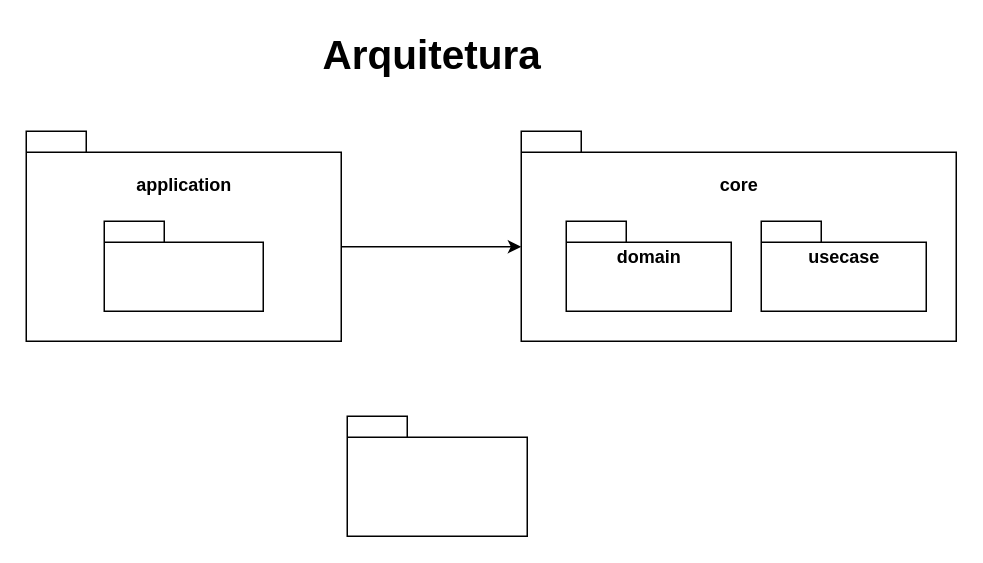
This 983x563 diagram has some shape labels left out. The shapes that lost their labels are listed below. From the top down, each one's centre as x and y in pixels, then its label:
At (x=183, y=265): "entrypoints".
At (x=436, y=475): "config".
